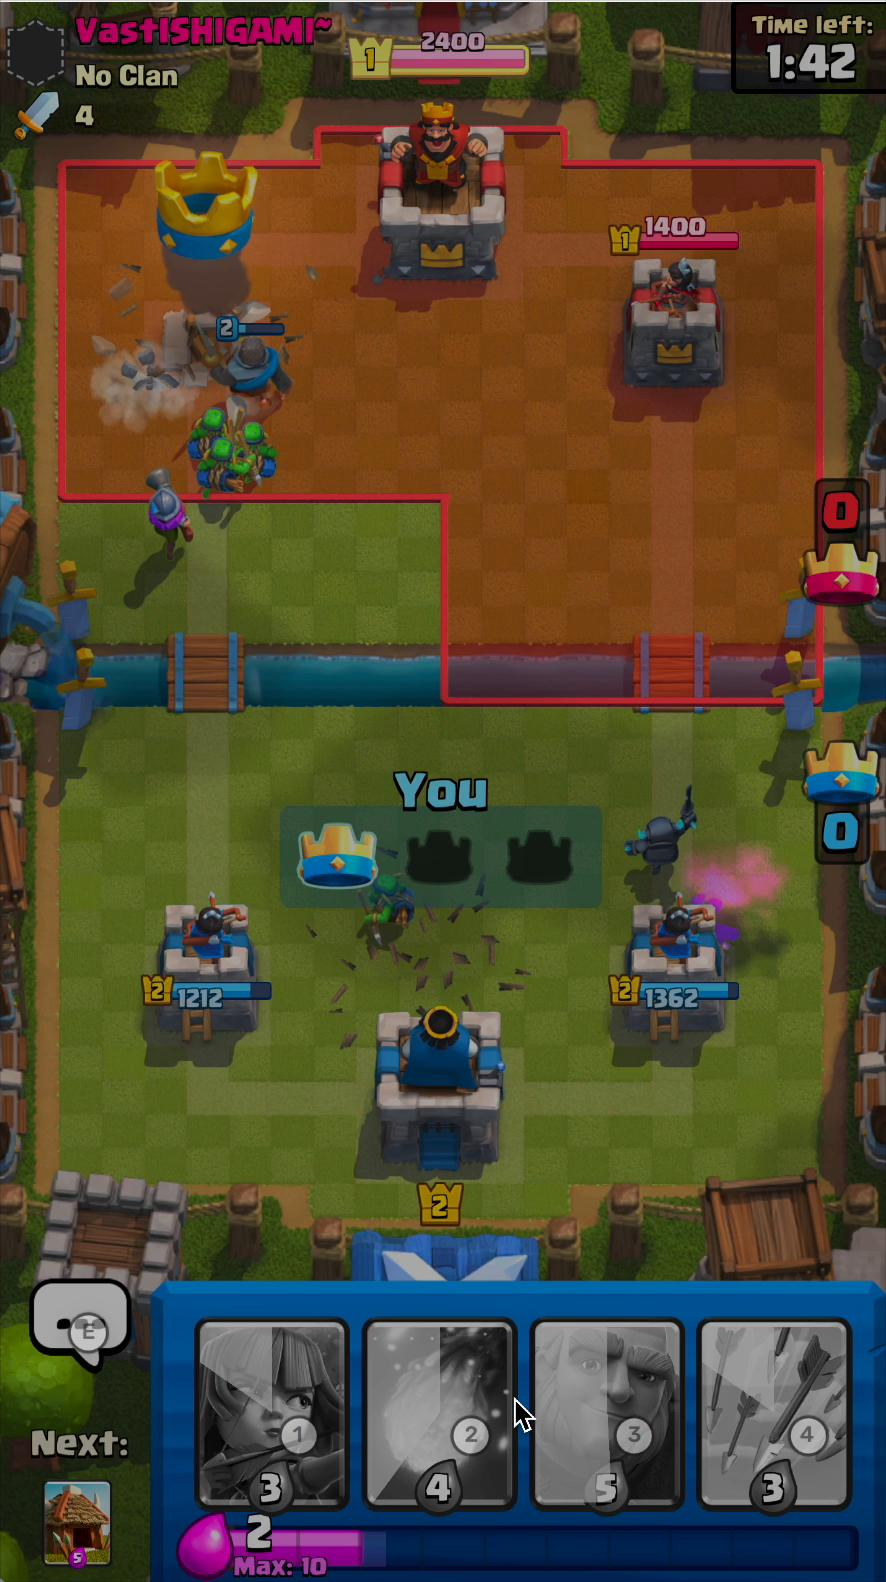chevalier: (189, 314, 301, 403)
gobelin_lances: (179, 402, 238, 466), (195, 435, 249, 498), (234, 420, 286, 485)
mini_PEKKA: (622, 789, 711, 881)
mousquetaire: (134, 468, 201, 564)
